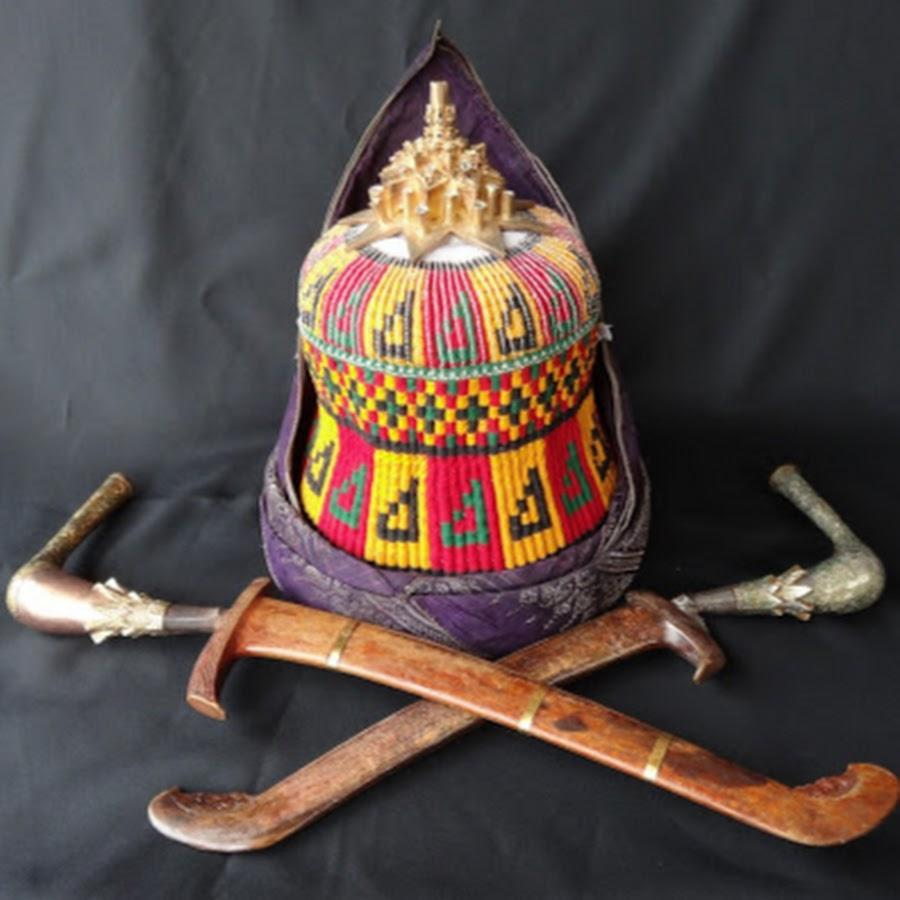facao: (7, 474, 899, 845), (140, 465, 884, 855)
